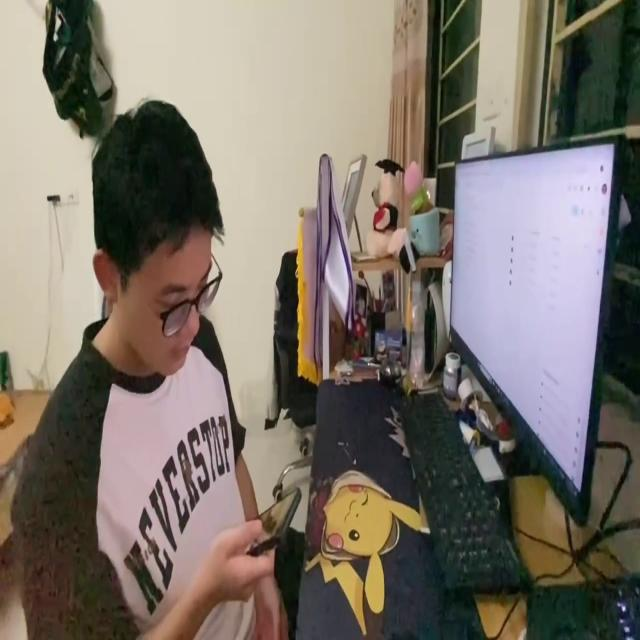laptop: (445, 127, 627, 532)
phone: (246, 481, 303, 555)
student: (3, 90, 290, 640)
